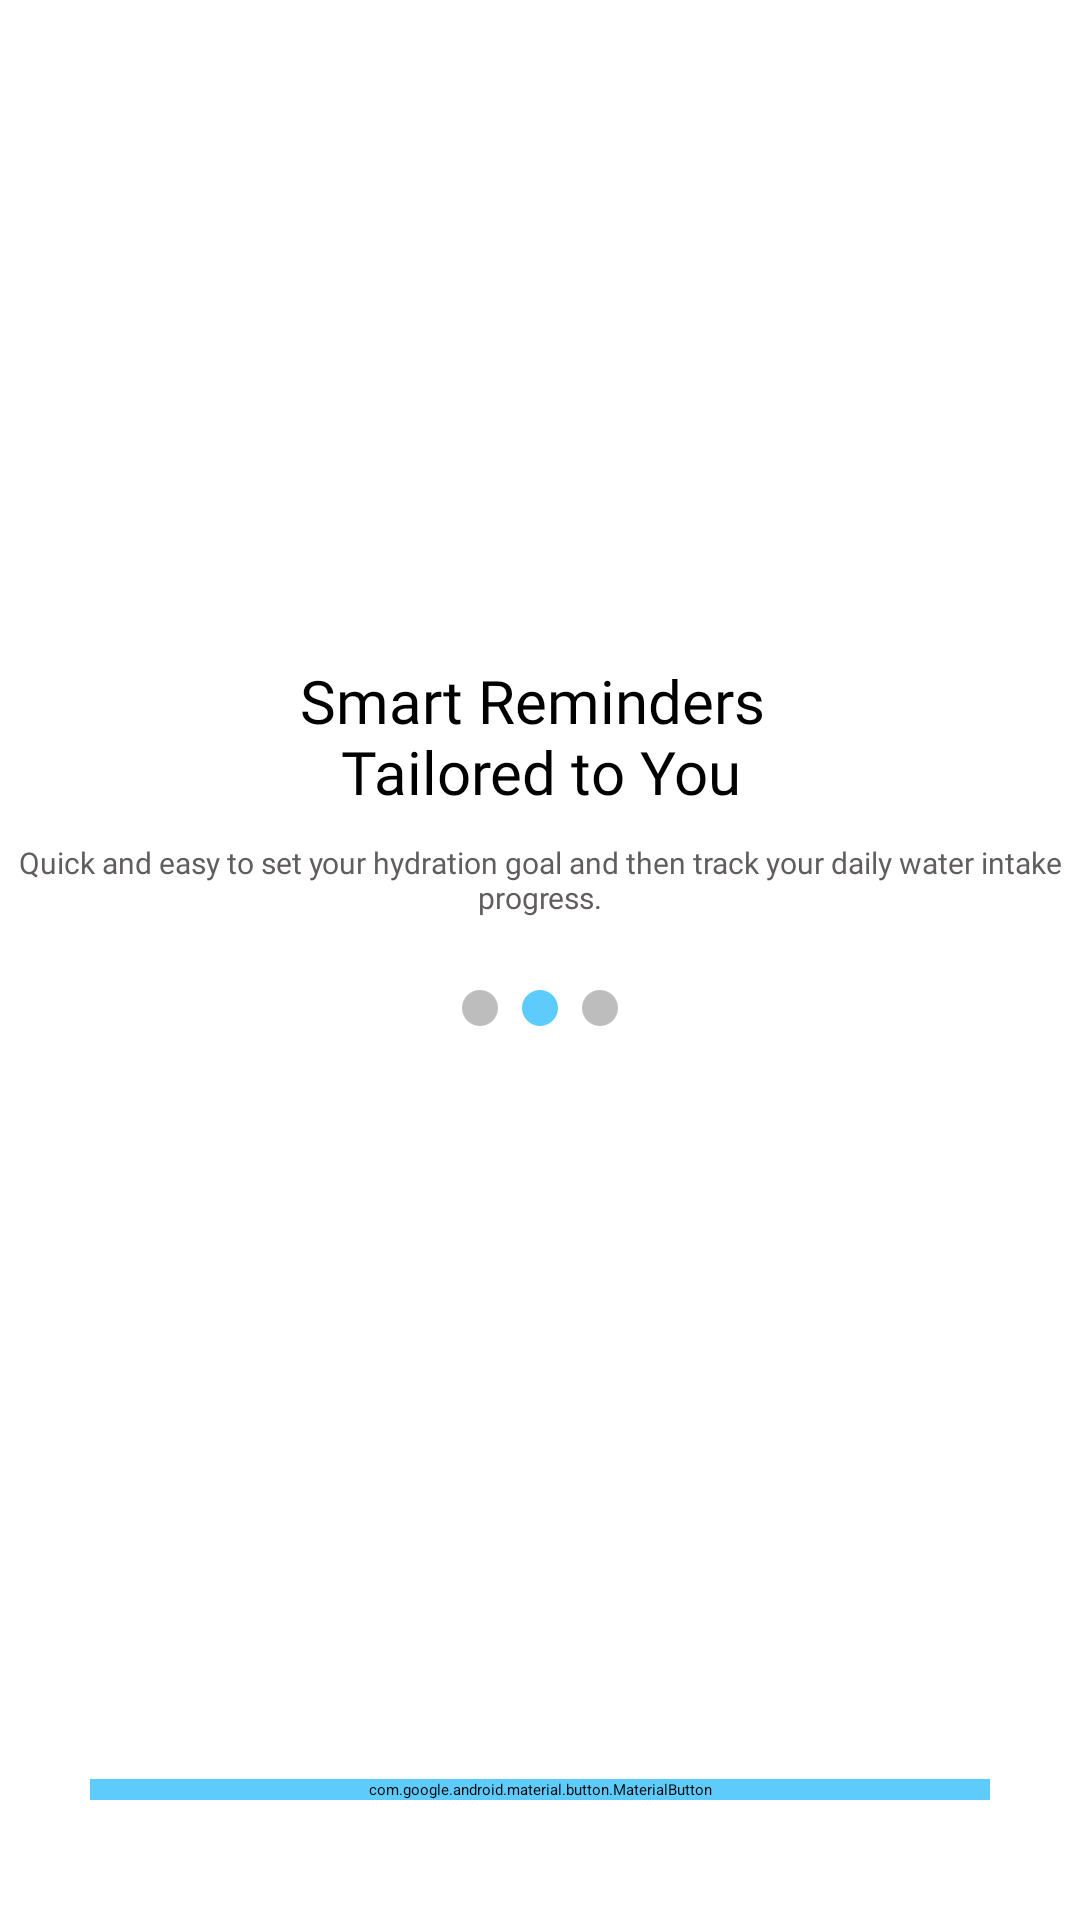

Icons on this 1080 × 1920 Android screen, each with the point to tap as (x,y):
dot: (480,1008), (540,1008), (600,1008)
